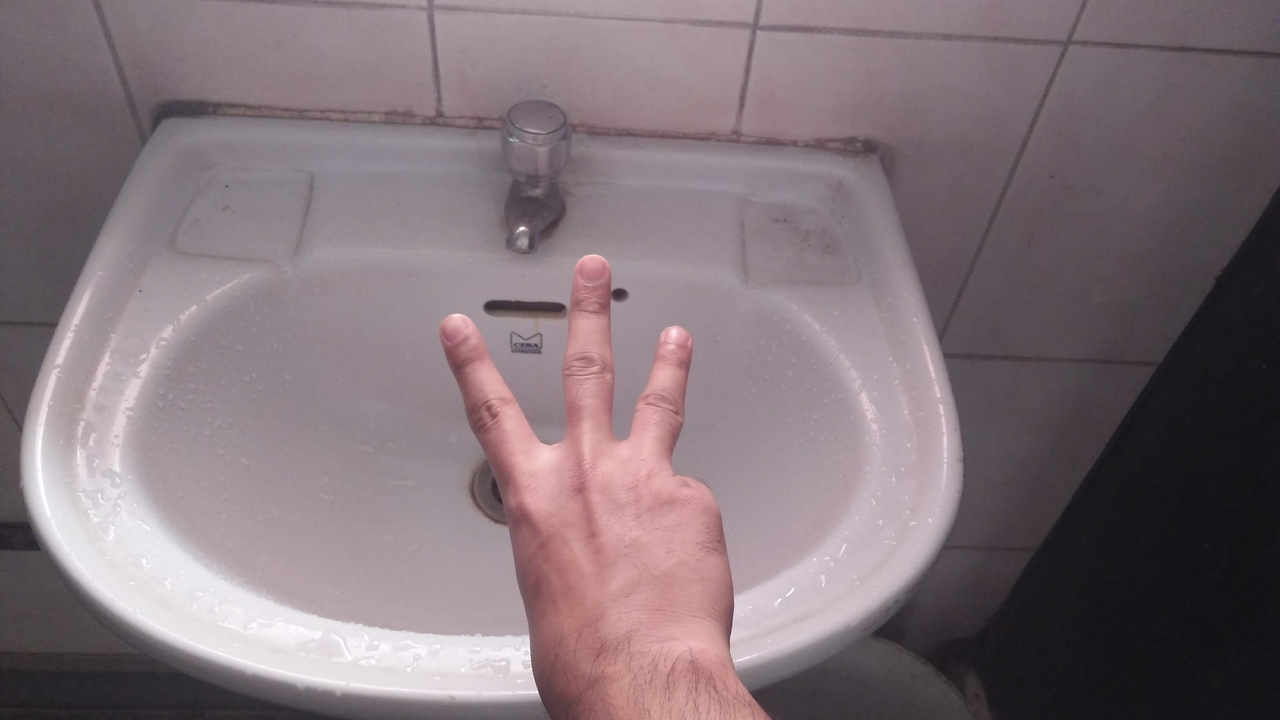fingertip: (428, 302, 482, 360), (644, 316, 700, 368), (564, 242, 616, 294)
